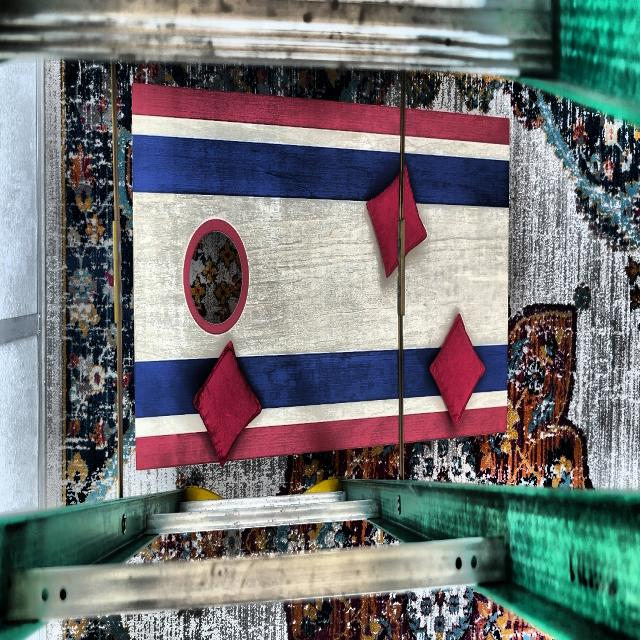board: (133, 120, 504, 429)
hole: (183, 218, 250, 336)
red-bean-bag: (193, 343, 262, 466), (366, 166, 428, 278), (429, 314, 486, 425)
